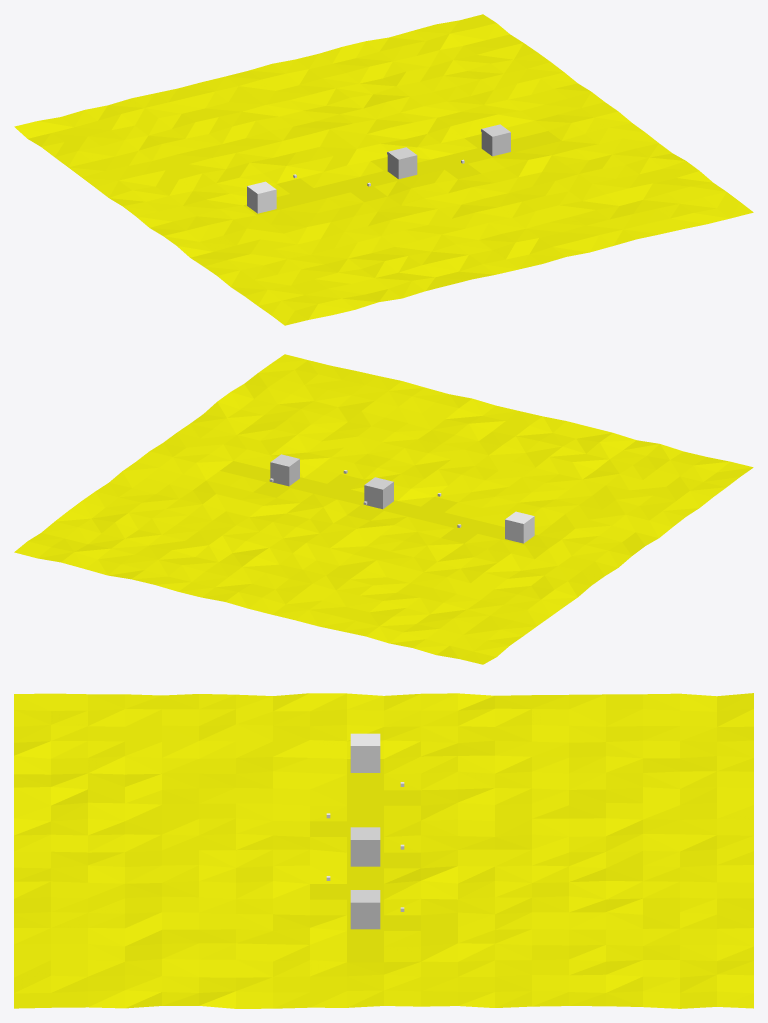
3 renders of one model, top to bottom at view 1: azimuth 30°, elevation 25°; view 2: azimuth 150°, elevation 25°; view 3: azimuth 270°, elevation 25°, orthographic. The views are drawn at different scales.
Visible parts, largest first — view 1: Plane, Enemy0, Enemy1, Block; view 2: Plane, Block, Enemy0, Enemy1; view 3: Plane, Enemy0, Block, Enemy1.
Boxes of the visible parts, x1=… form: Plane: x1=14, y1=14, x2=753, y2=325; Enemy0: x1=387, y1=147, x2=417, y2=179; Enemy1: x1=481, y1=124, x2=510, y2=156; Block: x1=247, y1=181, x2=276, y2=213; Plane: x1=14, y1=354, x2=753, y2=664; Block: x1=505, y1=511, x2=534, y2=543; Enemy0: x1=364, y1=477, x2=393, y2=509; Enemy1: x1=270, y1=454, x2=299, y2=486; Plane: x1=14, y1=693, x2=753, y2=1008; Enemy0: x1=350, y1=827, x2=380, y2=866; Block: x1=350, y1=733, x2=380, y2=772; Enemy1: x1=350, y1=890, x2=380, y2=929.
Bounding box in the file's own units: 20 × 20 × 0.8.
